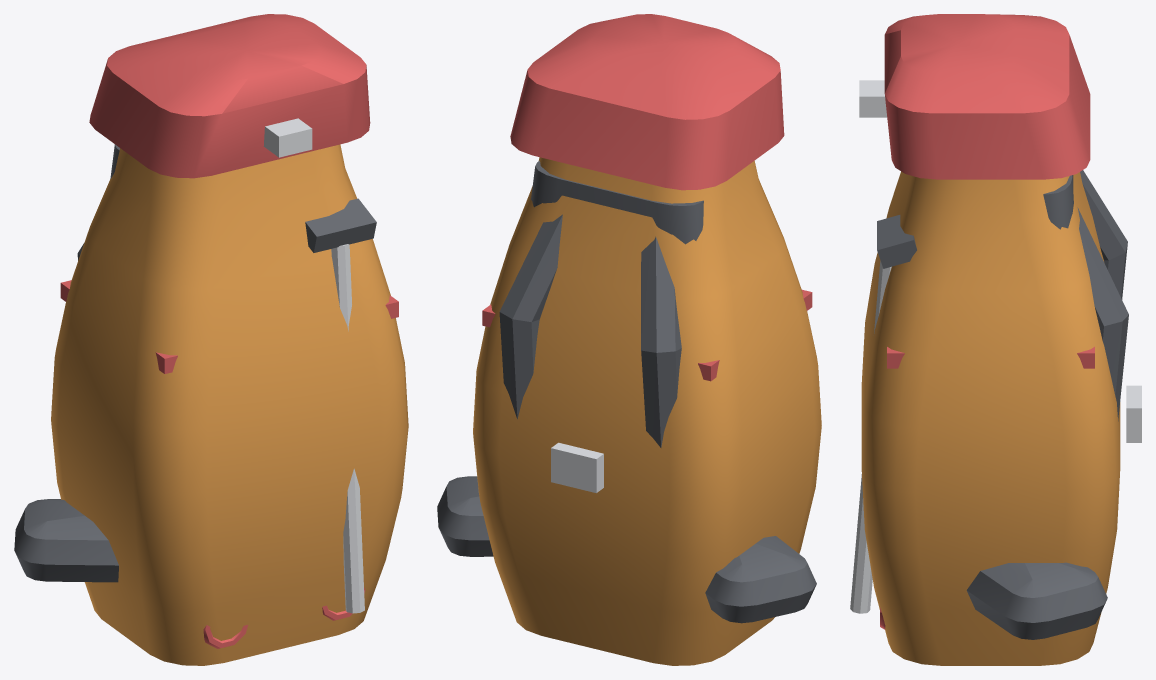
Rendered from mountaineering-and-summit-expedition-expedition-pack-039e3920__18819.glb.
3 views of the same model, side by side, from view 1: azimuth 30°, elevation 25°; view 2: azimuth 150°, elevation 25°; view 3: azimuth 270°, elevation 25° (orthographic). The views are drawn at different scales.
Parts seen in each view (by area): view 1: expedition-pack; view 2: expedition-pack; view 3: expedition-pack.
Part boxes in pixels (<box>): expedition-pack: <box>14,14,408,665</box>; expedition-pack: <box>437,14,821,665</box>; expedition-pack: <box>850,14,1141,665</box>.
Bounding box in the file's own units: 0.5706 × 0.82 × 0.379.
